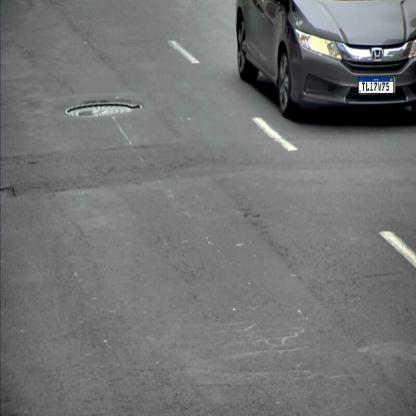PlacaM: (358, 77, 394, 94)
